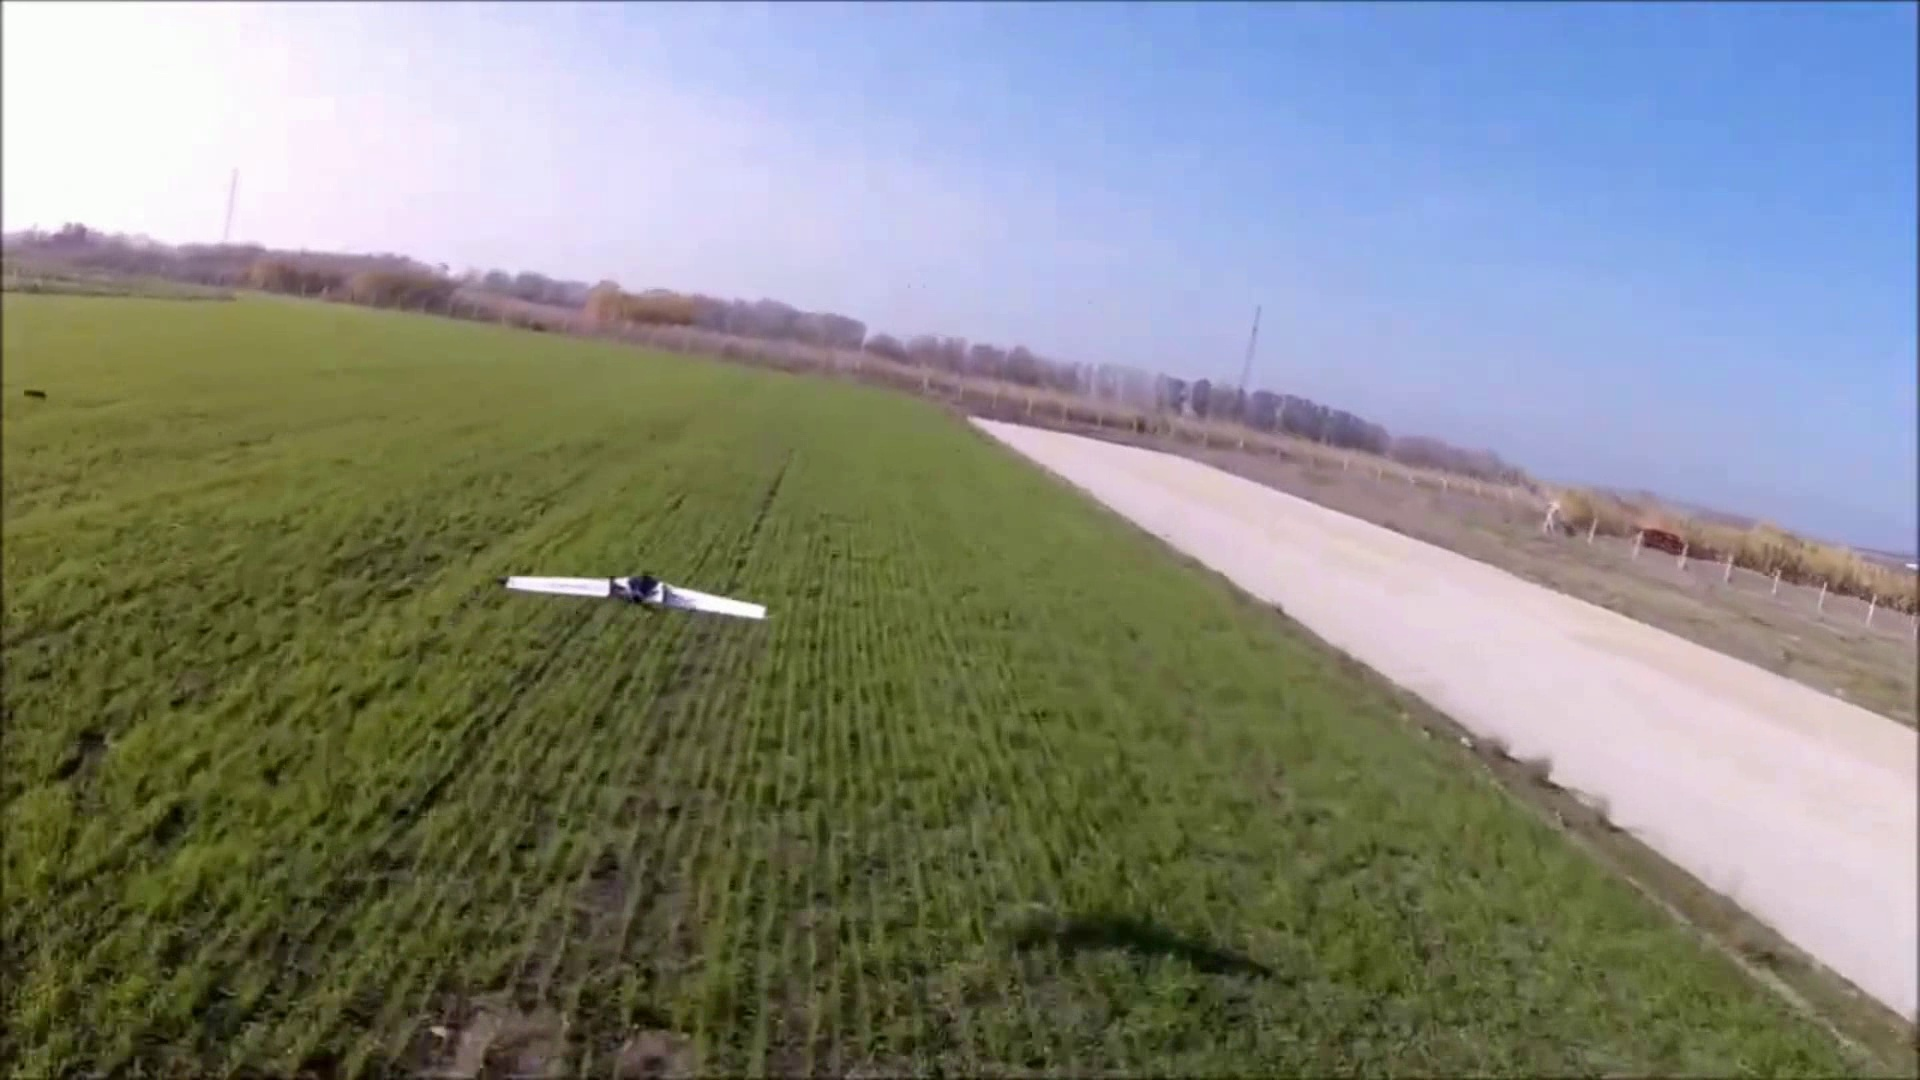airplane: (502, 572, 766, 624)
